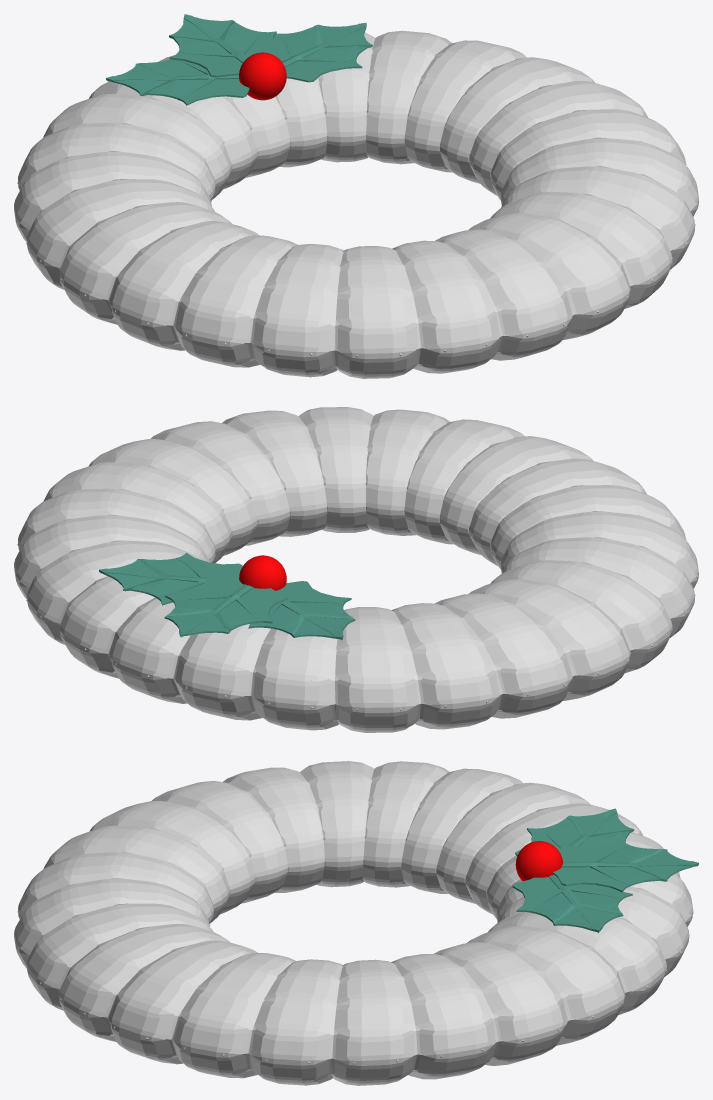
Rendered from Wreath_new.fbx.
The picture shows the model from 3 angles, top to bottom: view 1: azimuth 30°, elevation 25°; view 2: azimuth 150°, elevation 25°; view 3: azimuth 270°, elevation 25°; orthographic projection.
Visible parts, largest first — view 1: Torus; view 2: Torus; view 3: Torus.
Part boxes in pixels (x1,y1,x2,y2): Torus: (14, 14, 698, 378); Torus: (14, 407, 698, 732); Torus: (14, 761, 698, 1085).
Size of the model in its own units: 275 by 60.05 by 277.
